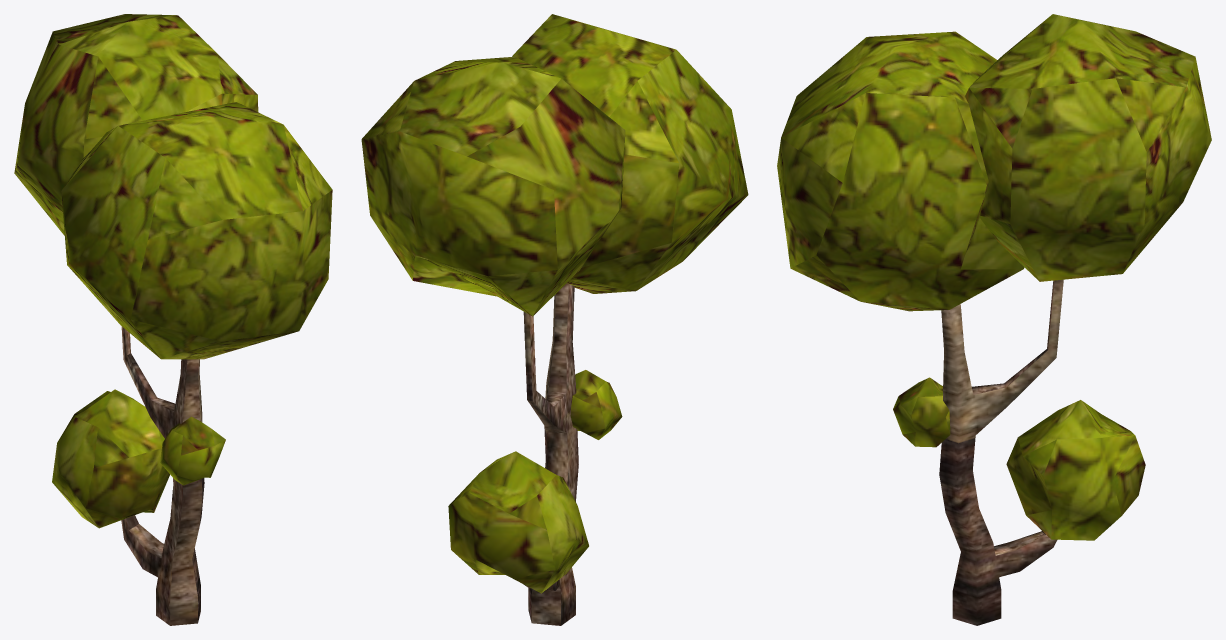
File: tree2.obj
The picture shows the model from 3 angles, left to right: view 1: azimuth 30°, elevation 25°; view 2: azimuth 150°, elevation 25°; view 3: azimuth 270°, elevation 25°; orthographic projection. The views are drawn at different scales.
Visible parts, largest first — view 1: Cylinder001; view 2: Cylinder001; view 3: Cylinder001.
Boxes of the visible parts, bbox=[...] form: Cylinder001: bbox=[14, 14, 332, 625]; Cylinder001: bbox=[361, 14, 748, 625]; Cylinder001: bbox=[777, 14, 1211, 625].
Bounding box in the file's own units: 63.99 × 140 × 93.
